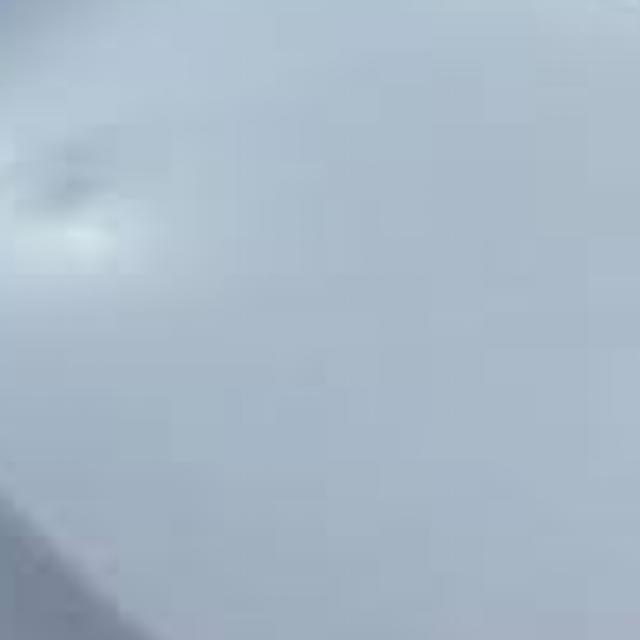dents: (16, 154, 241, 312)
